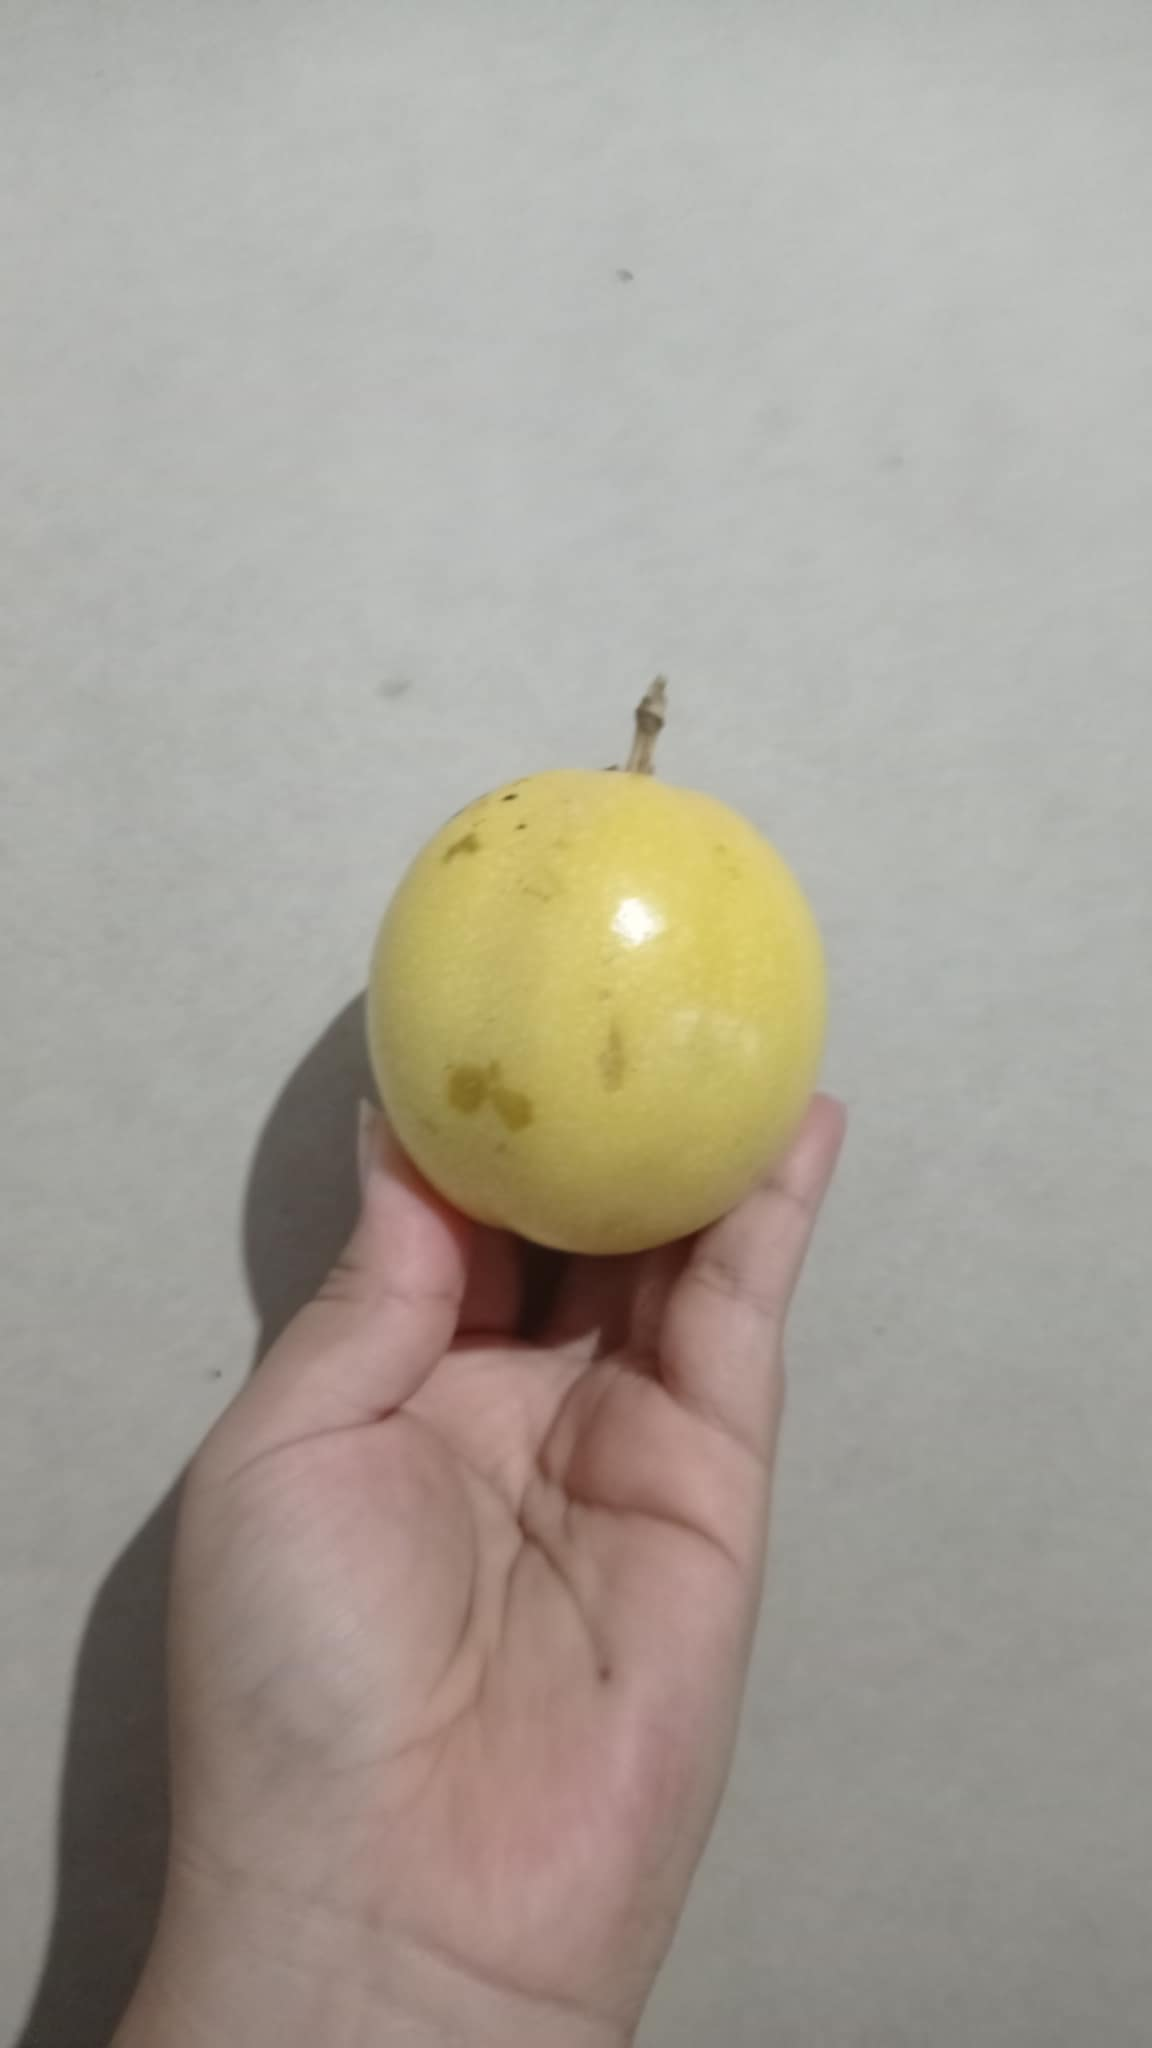maracuya: (366, 663, 837, 1280)
